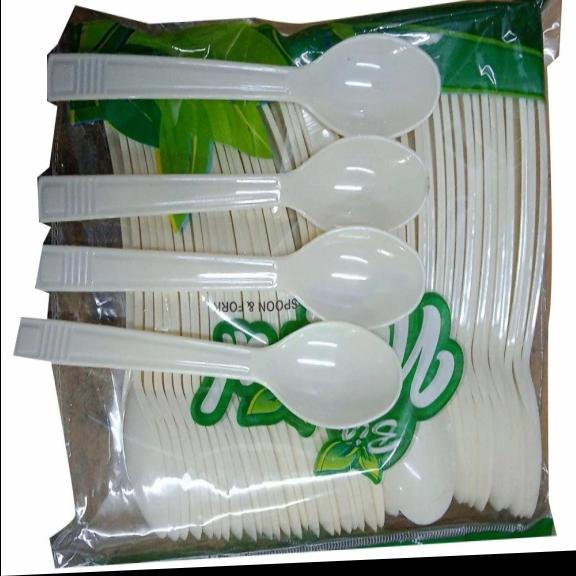Plastik: (15, 319, 399, 427), (48, 34, 438, 137), (36, 227, 423, 328), (39, 136, 426, 230), (382, 411, 454, 524)
